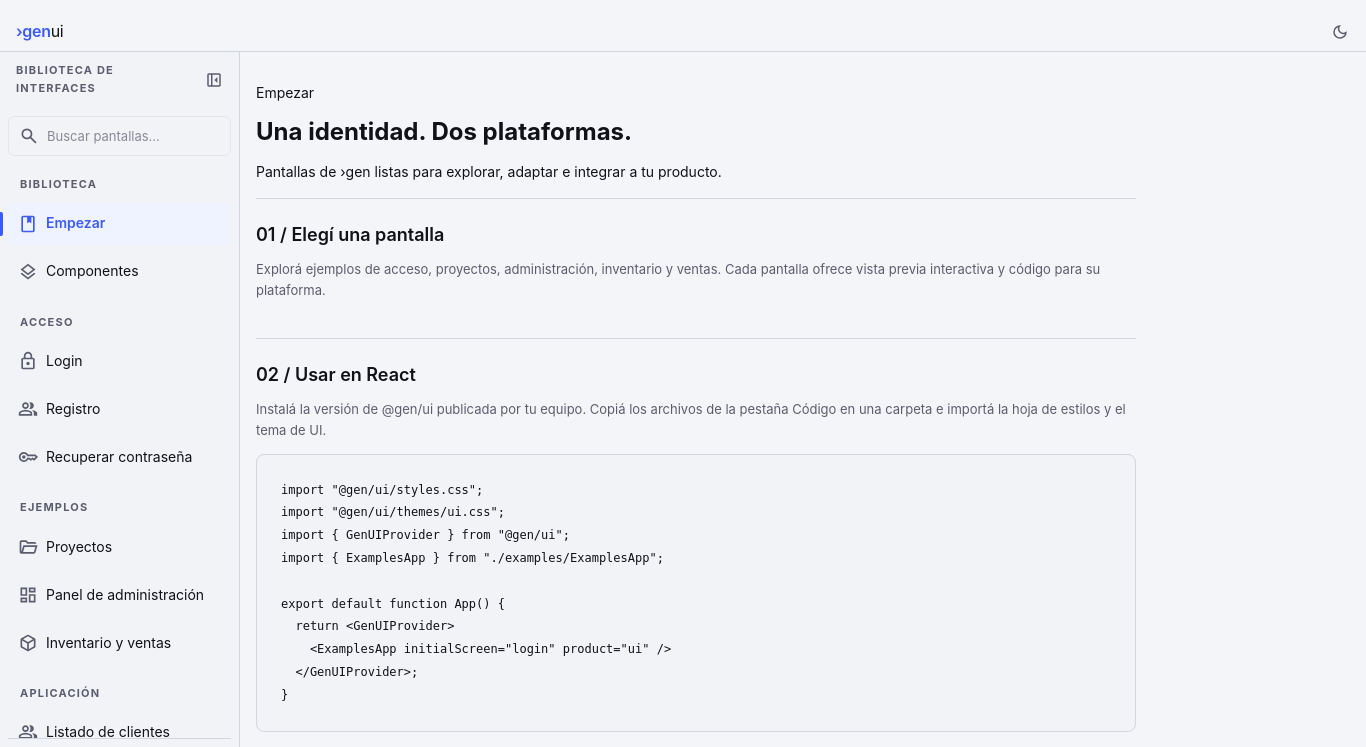
Test: el rail muestra etiquetas fuera del scroll y las cierra con Escape
Click the button named "Ocultar menú" at {"x": 214, "y": 80}, box [196,62,231,98]
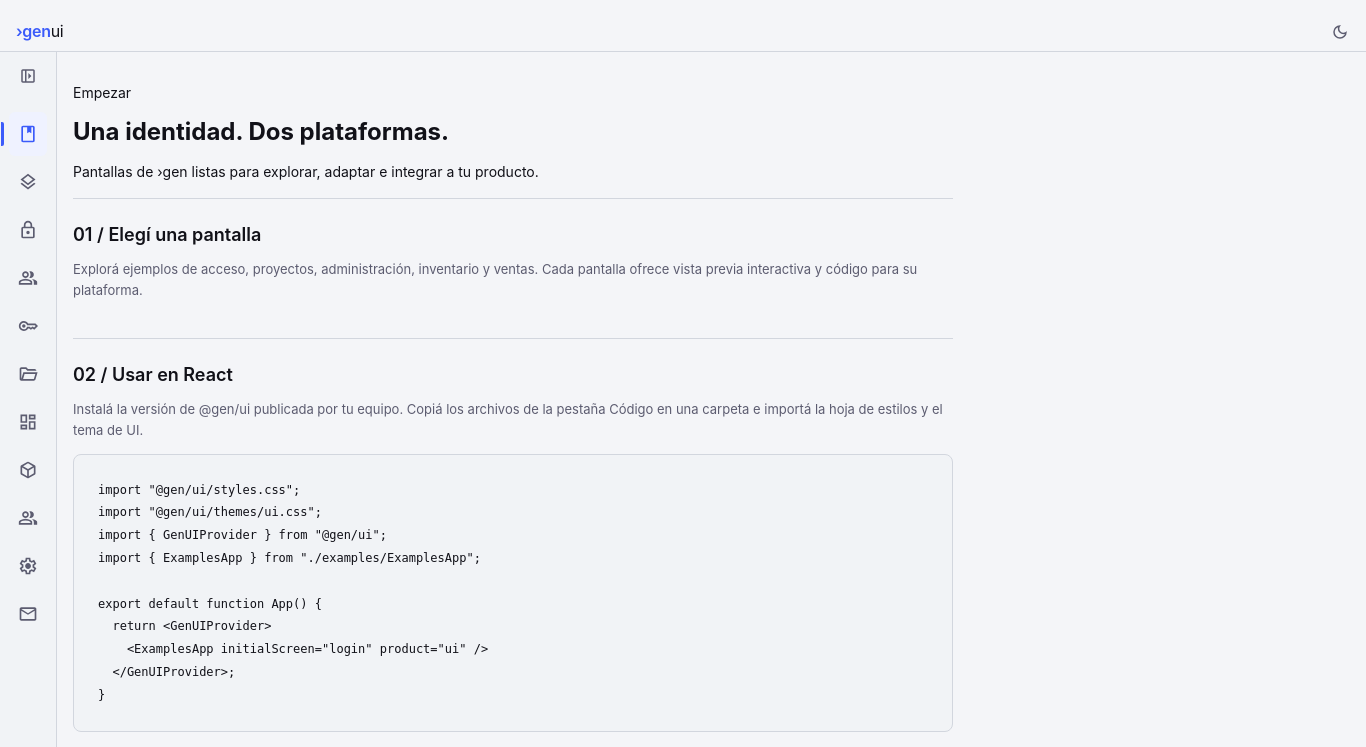
Focus the link named "Proyectos" at {"x": 28, "y": 374}, box [18,364,38,384]
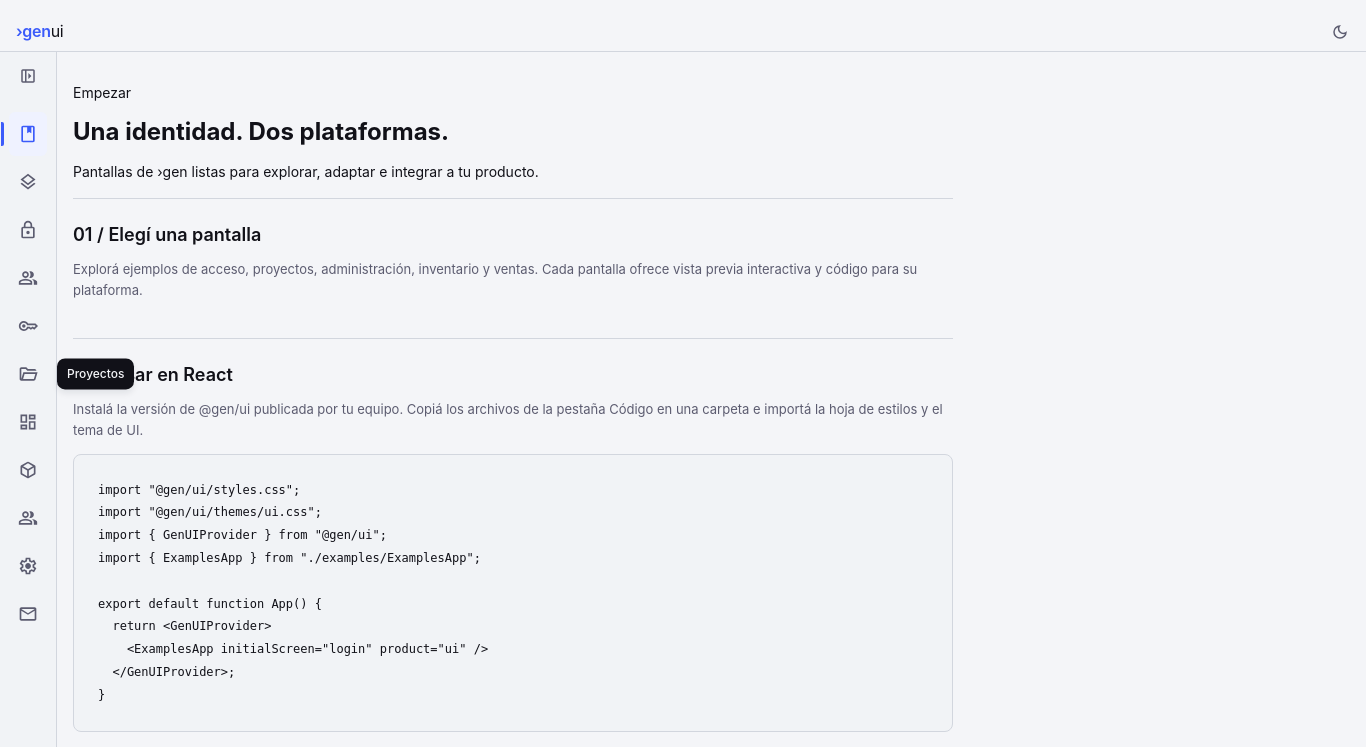
Result: the text with class "rail-tooltip" reads "Proyectos" at [67,366,124,381]
Press Escape in the link named "Proyectos", box [18,364,38,384]
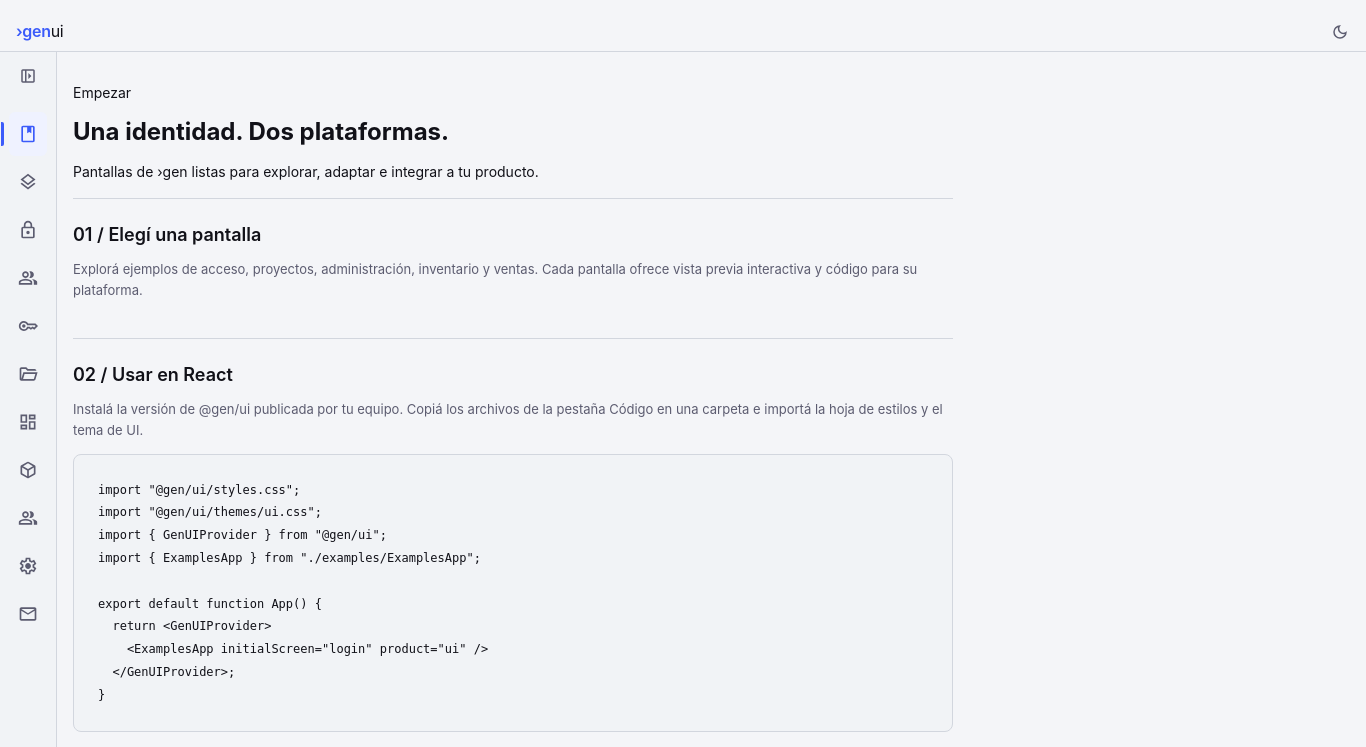
Result: the text with class "rail-tooltip" is gone
